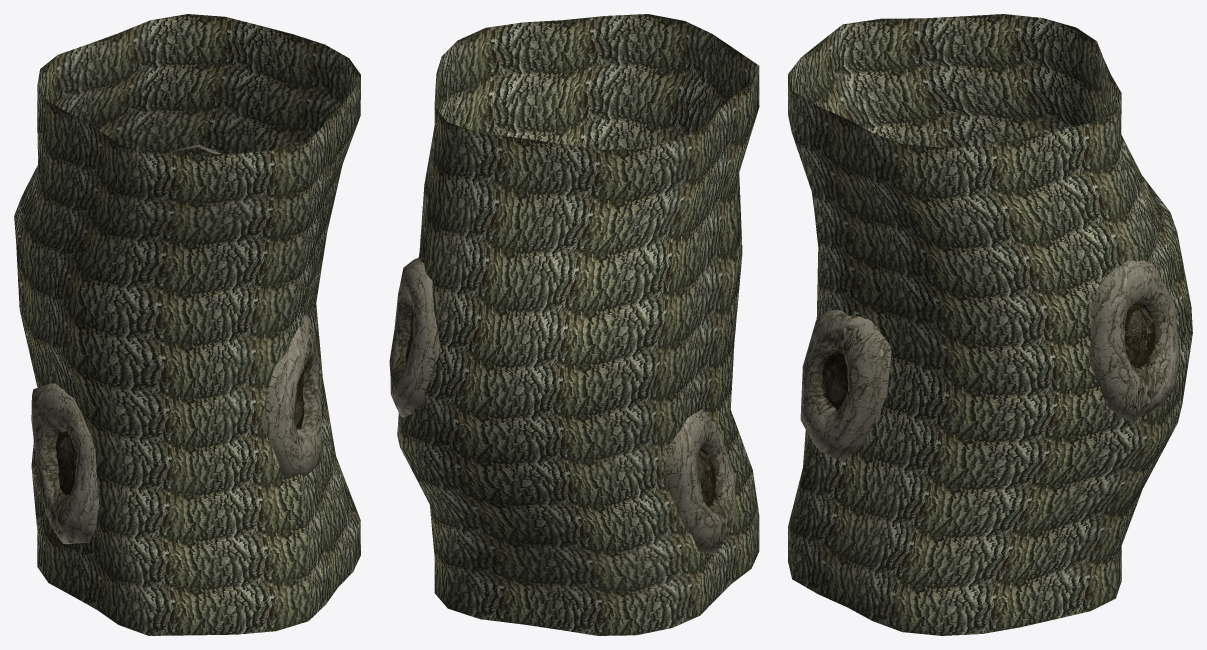
File: Stump12.fbx
3 renders of one model, left to right at view 1: azimuth 30°, elevation 25°; view 2: azimuth 150°, elevation 25°; view 3: azimuth 270°, elevation 25°, orthographic.
Parts seen in each view (by area): view 1: Stump12; view 2: Stump12; view 3: Stump12.
Boxes of the visible parts, x1,y1,x2,y2 form: Stump12: [14, 14, 360, 635]; Stump12: [389, 14, 759, 635]; Stump12: [788, 14, 1192, 635].
Bounding box in the file's own units: 12.19 × 20 × 15.03.
2 materials, 2 textured.
